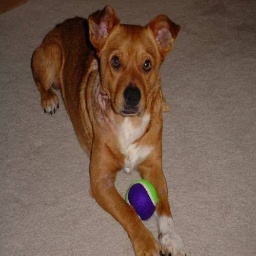dog: (30, 6, 189, 256)
